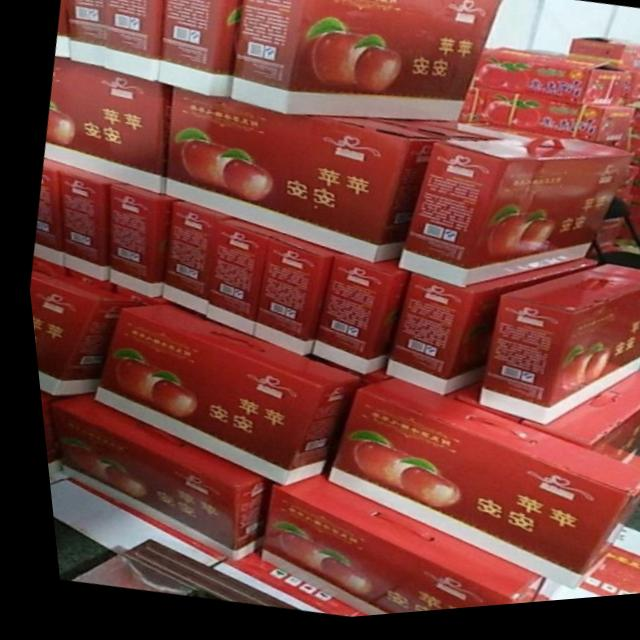box: (315, 383, 640, 599), (158, 91, 433, 269), (83, 305, 348, 489), (247, 477, 527, 621), (40, 393, 262, 563), (390, 147, 628, 295), (226, 0, 500, 128), (375, 267, 590, 401), (468, 272, 640, 433), (40, 58, 167, 195), (23, 269, 126, 395), (303, 258, 404, 379), (509, 381, 640, 472), (457, 92, 630, 152), (245, 238, 327, 359), (471, 54, 628, 117), (197, 221, 272, 340), (155, 0, 240, 100), (102, 184, 174, 299), (154, 203, 225, 318), (56, 168, 117, 292), (26, 159, 70, 279), (101, 0, 163, 84), (360, 123, 480, 146), (567, 46, 640, 83), (409, 126, 524, 146), (67, 0, 100, 68), (32, 391, 46, 476), (617, 84, 640, 113), (624, 163, 640, 191), (623, 189, 640, 215), (624, 138, 640, 164), (623, 211, 640, 235), (626, 232, 640, 252), (628, 119, 640, 140)
